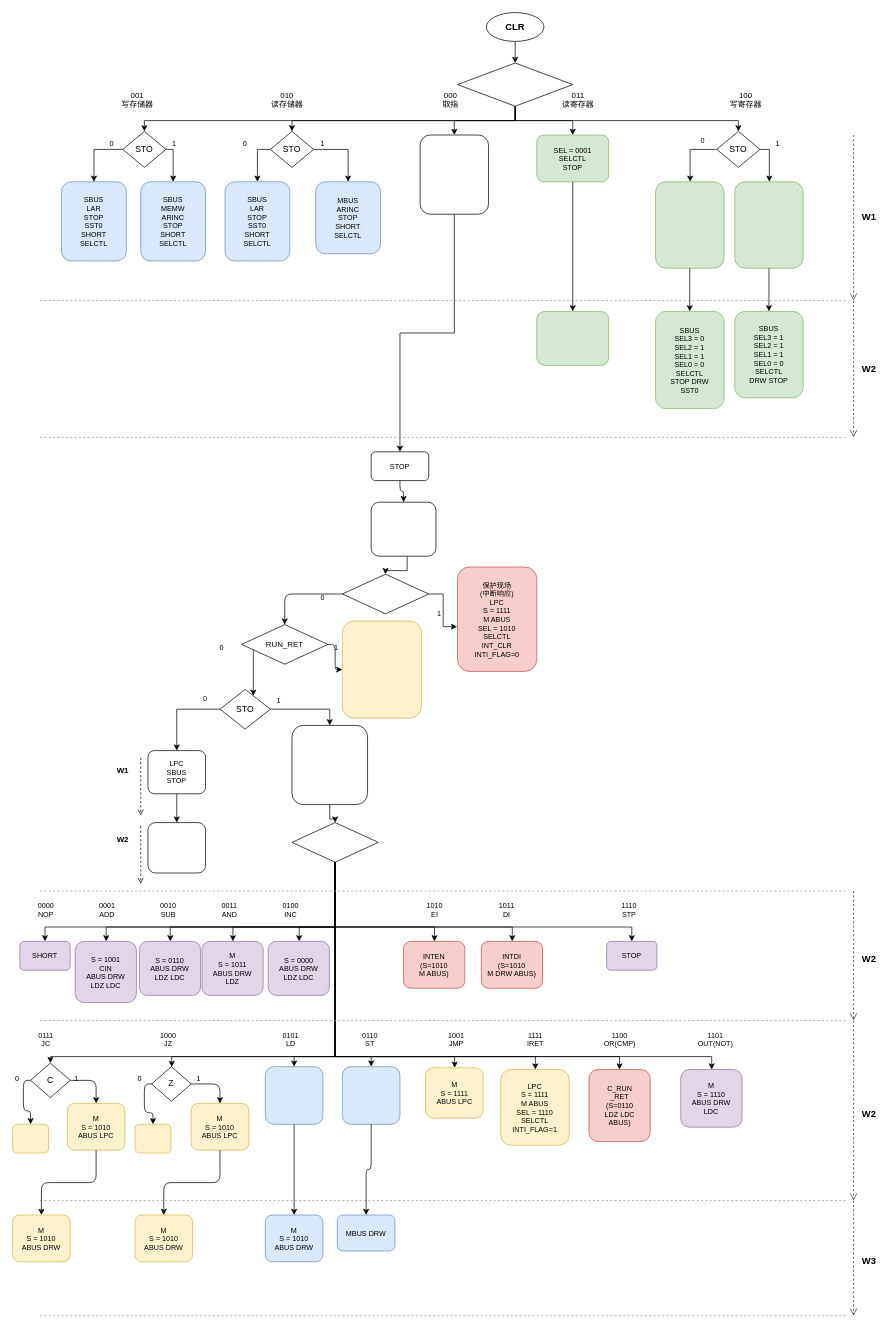
This 895x1336 diagram has some shape labels left out. The centre of each missing label's shape, as x and y in pixels:
IR7～IR4: (x=334, y=842)
LPC SBUS DRW SEL = 1110: (x=403, y=528)
M S = 1010 ABUS LAR LONG: (x=294, y=1095)
M S = 1111 ABUS LAR LONG: (x=371, y=1095)
RUN_SAVE: (x=385, y=593)
S = 0000 ABUS DRW SELCTL SEL3-0=1100 SE LIR PCINC: (x=329, y=765)
SBUS SEL3 = 0 SEL2 = 1 SEL1 = 1 SEL0 = 1 SELCTL DRW STOP: (x=689, y=224)
SBUS SEL3 = 1 SEL2 = 0 SEL1 = 1 SEL0 = 0 SELCTL DRW STOP: (x=768, y=224)
SEL = 1011 SELCTL STOP LONG: (x=572, y=338)
SEL3 = 0 SEL2 = 0 SEL1 = 0 SEL0 = 1 SELCTL STOP: (x=454, y=174)
SST0 SBUS DRW LP3: (x=176, y=847)
SWC SWB SWA: (x=515, y=84)
恢复现场 (RETI) LPC S = 1111 M ABUS SEL = 1110 SELCTL INTI_FLAG=1: (x=382, y=669)
